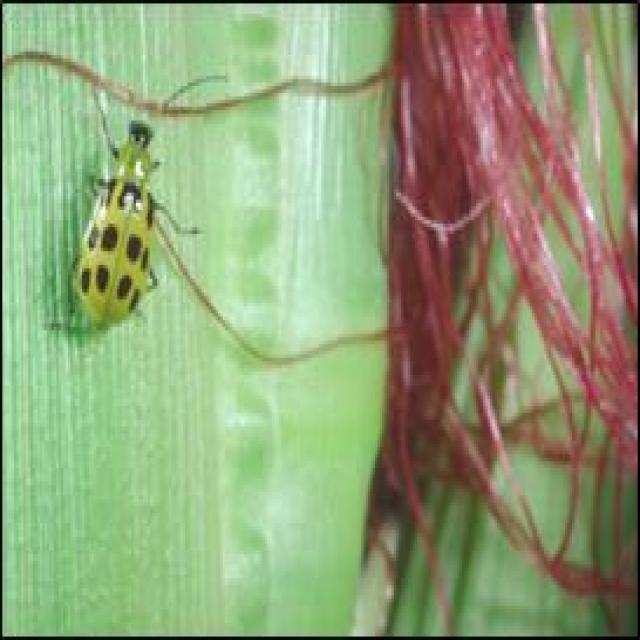gusano_verde: (46, 72, 230, 338)
